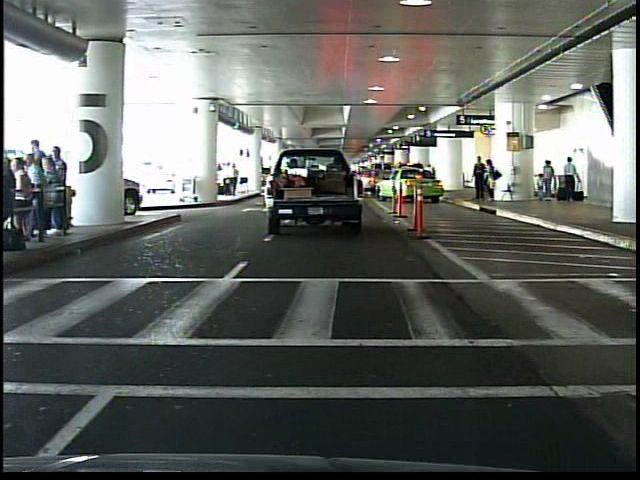person: (470, 154, 487, 206), (484, 157, 500, 205)
